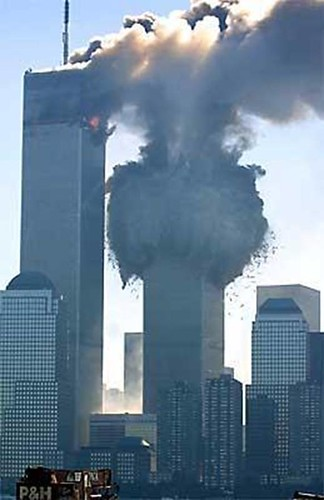building: (2, 66, 105, 476), (1, 268, 74, 500), (251, 293, 324, 500), (197, 375, 244, 493), (157, 384, 190, 499)
smoke: (102, 1, 324, 162)
